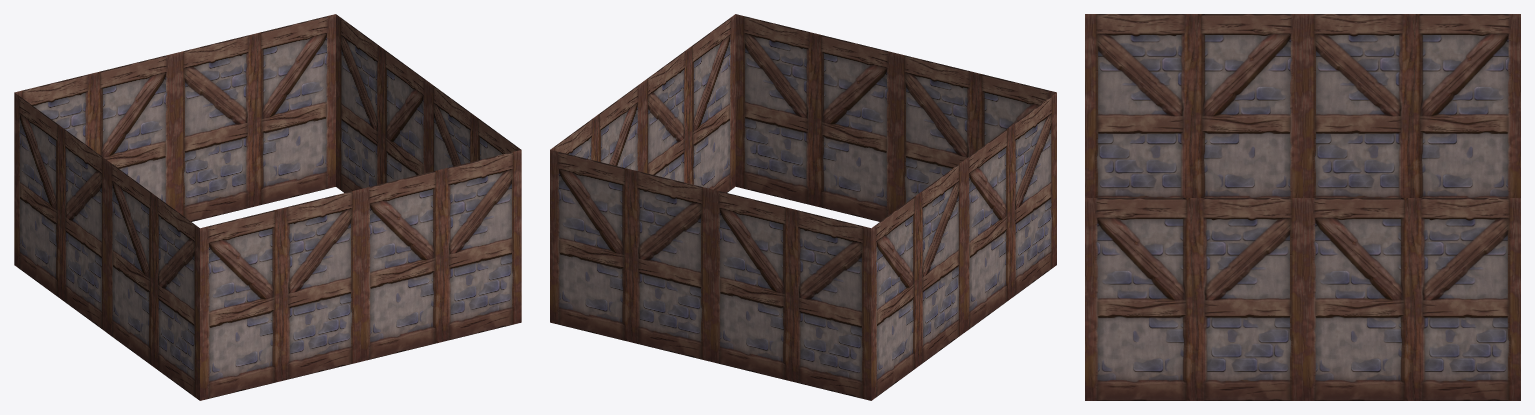
File: wall_rejunte_base2x2.fbx
3 views of the same model, side by side, from view 1: azimuth 30°, elevation 25°; view 2: azimuth 150°, elevation 25°; view 3: azimuth 270°, elevation 25° (orthographic). The views are drawn at different scales.
Visible parts, largest first — view 1: parede_rejunte_base2x2; view 2: parede_rejunte_base2x2; view 3: parede_rejunte_base2x2.
Boxes of the visible parts, x1=… form: parede_rejunte_base2x2: x1=14, y1=14, x2=521, y2=400; parede_rejunte_base2x2: x1=550, y1=14, x2=1056, y2=400; parede_rejunte_base2x2: x1=1085, y1=14, x2=1520, y2=400.
Size of the model in its own units: 299 by 154 by 299.
